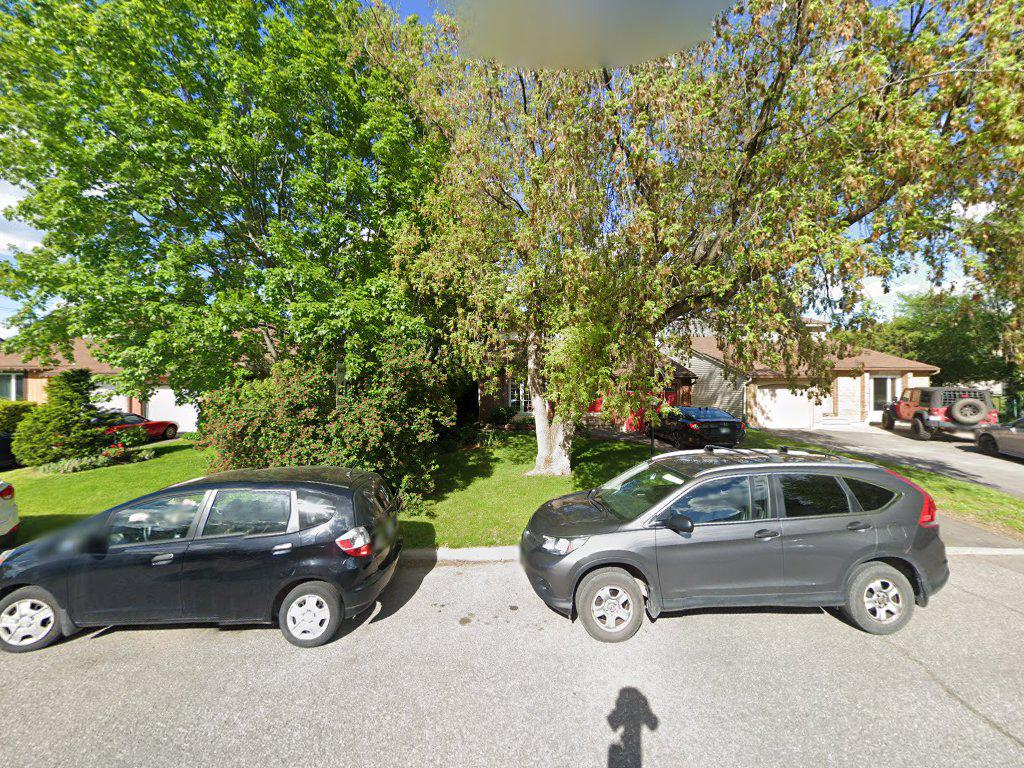trunk: (528, 358, 579, 481)
